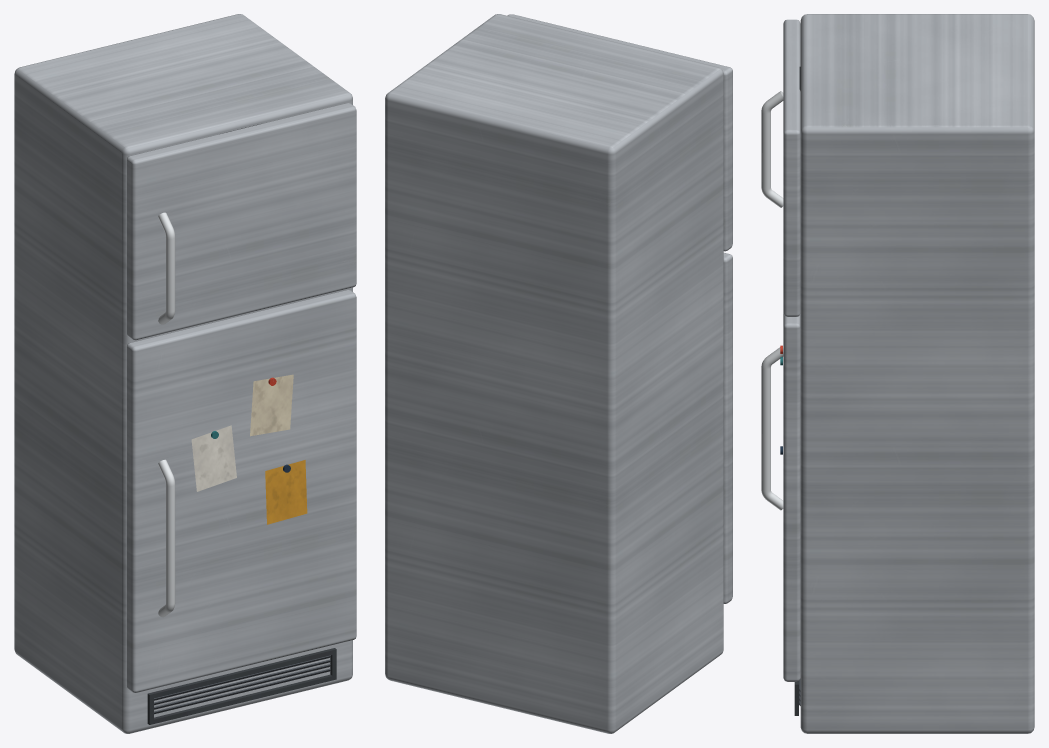
File: Fridge.glb
3 renders of one model, left to right at view 1: azimuth 30°, elevation 25°; view 2: azimuth 150°, elevation 25°; view 3: azimuth 270°, elevation 25°, orthographic. The views are drawn at different scales.
Parts seen in each view (by area): view 1: Fridge_Body, Fridge_FridgeDoor, Fridge_FreezerDoor; view 2: Fridge_Body, Fridge_FridgeDoor, Fridge_FreezerDoor; view 3: Fridge_Body, Fridge_FridgeDoor, Fridge_FreezerDoor.
Part boxes in pixels (x1=…): Fridge_Body: x1=14, y1=14, x2=352, y2=733; Fridge_FridgeDoor: x1=126, y1=290, x2=356, y2=692; Fridge_FreezerDoor: x1=126, y1=103, x2=356, y2=340; Fridge_Body: x1=385, y1=14, x2=723, y2=733; Fridge_FridgeDoor: x1=723, y1=253, x2=732, y2=603; Fridge_FreezerDoor: x1=507, y1=14, x2=732, y2=251; Fridge_Body: x1=794, y1=14, x2=1034, y2=733; Fridge_FridgeDoor: x1=761, y1=313, x2=800, y2=681; Fridge_FreezerDoor: x1=761, y1=19, x2=800, y2=316.
Size of the model in its own units: 0.8 by 1.95 by 0.794.
13 materials, 8 textured.
